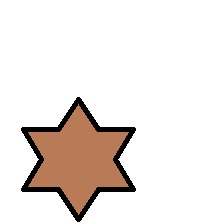star: (21, 97, 136, 223)
